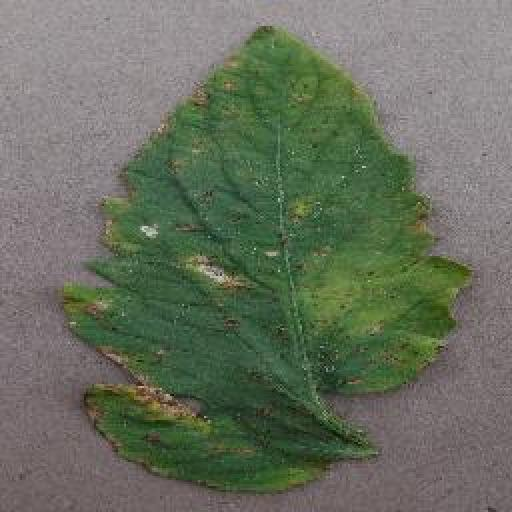Bacterial Spot: (50, 17, 482, 504)
